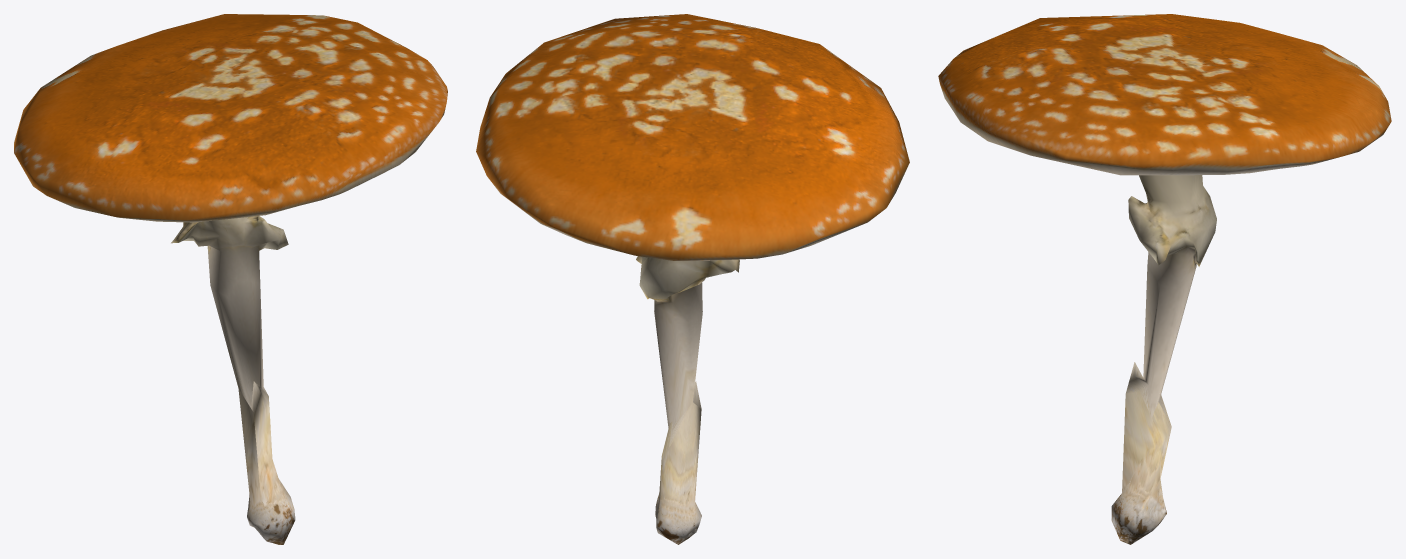
The model's file is YellowMushroom.fbx.
3 views of the same model, side by side, from view 1: azimuth 30°, elevation 25°; view 2: azimuth 150°, elevation 25°; view 3: azimuth 270°, elevation 25° (orthographic). The views are drawn at different scales.
Parts seen in each view (by area): view 1: YellowMushroom; view 2: YellowMushroom; view 3: YellowMushroom.
Part boxes in pixels (x1,y1,x2,y2): YellowMushroom: [14, 14, 447, 544]; YellowMushroom: [476, 14, 909, 544]; YellowMushroom: [938, 14, 1391, 544].
Bounding box in the file's own units: 8.97 × 10.96 × 9.28.
